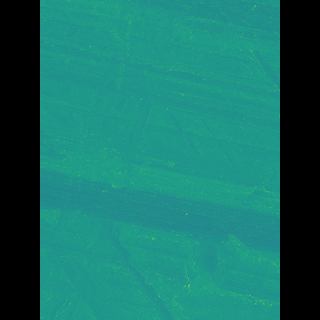Loch: (69, 0, 178, 320), (175, 228, 249, 320)
